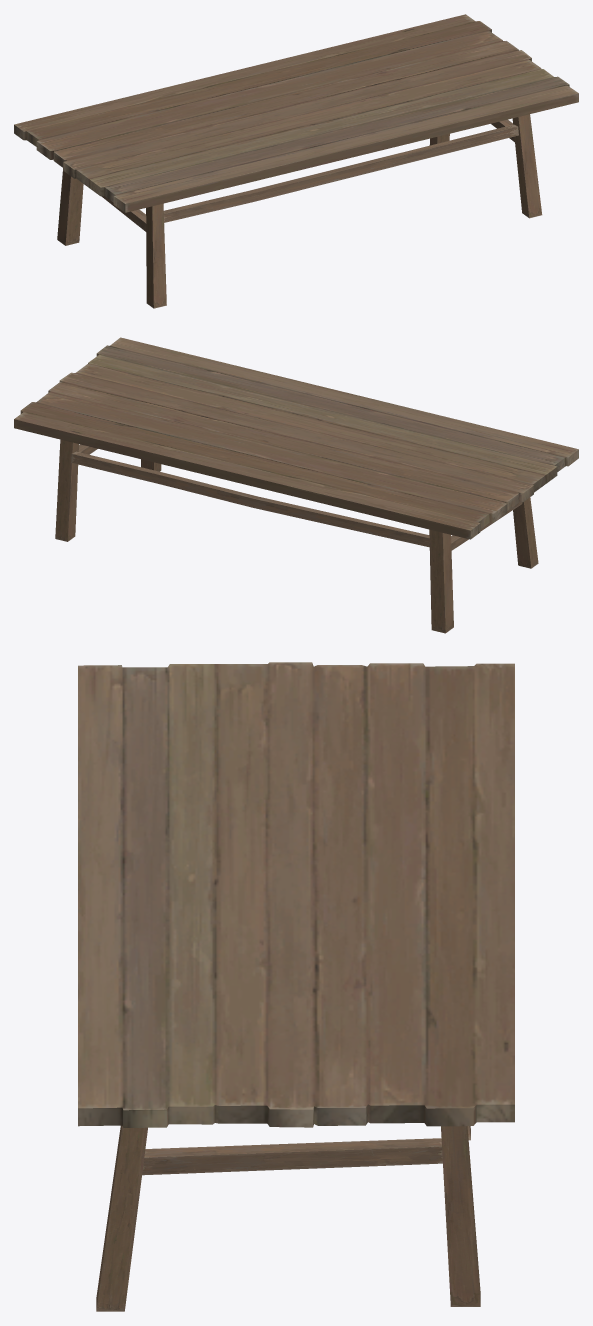
The model's file is Homeworld_Exterior_Ly_Table_Table_09_Vo.fbx.
3 renders of one model, top to bottom at view 1: azimuth 30°, elevation 25°; view 2: azimuth 150°, elevation 25°; view 3: azimuth 270°, elevation 25°, orthographic. The views are drawn at different scales.
Visible parts, largest first — view 1: Area_Ly_Prop_Common_Table_A_03_Vo; view 2: Area_Ly_Prop_Common_Table_A_03_Vo; view 3: Area_Ly_Prop_Common_Table_A_03_Vo.
Part boxes in pixels (x1,y1,x2,y2): Area_Ly_Prop_Common_Table_A_03_Vo: (14,14,578,308); Area_Ly_Prop_Common_Table_A_03_Vo: (14,337,578,633); Area_Ly_Prop_Common_Table_A_03_Vo: (78,662,514,1311).
Size of the model in its own units: 3.2 by 0.7813 by 1.32.
